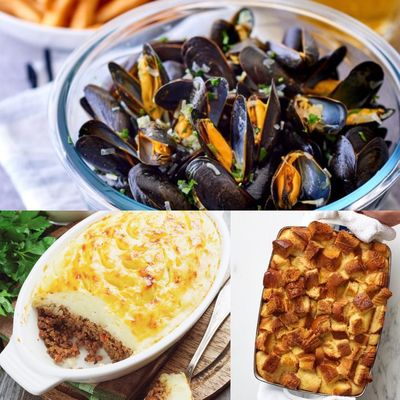sushi: (46, 0, 393, 208), (0, 211, 225, 395)
